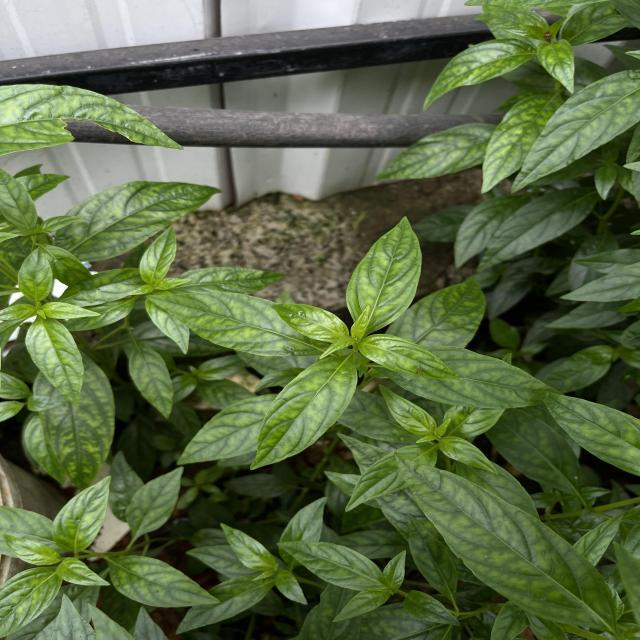Andrographis paniculata: (392, 450, 621, 634), (510, 67, 640, 196), (57, 180, 224, 263), (248, 355, 358, 473), (474, 186, 597, 273), (530, 387, 640, 477), (344, 215, 423, 333), (420, 38, 536, 114), (144, 292, 274, 356), (368, 122, 494, 184), (478, 92, 550, 196), (173, 393, 258, 466), (108, 554, 222, 608), (275, 538, 387, 592), (24, 316, 85, 408), (356, 332, 465, 382), (49, 474, 114, 556), (123, 466, 186, 538), (127, 336, 175, 421), (376, 382, 437, 439), (270, 304, 350, 342), (218, 520, 276, 572), (138, 224, 178, 286), (16, 245, 54, 302), (55, 557, 114, 589)
